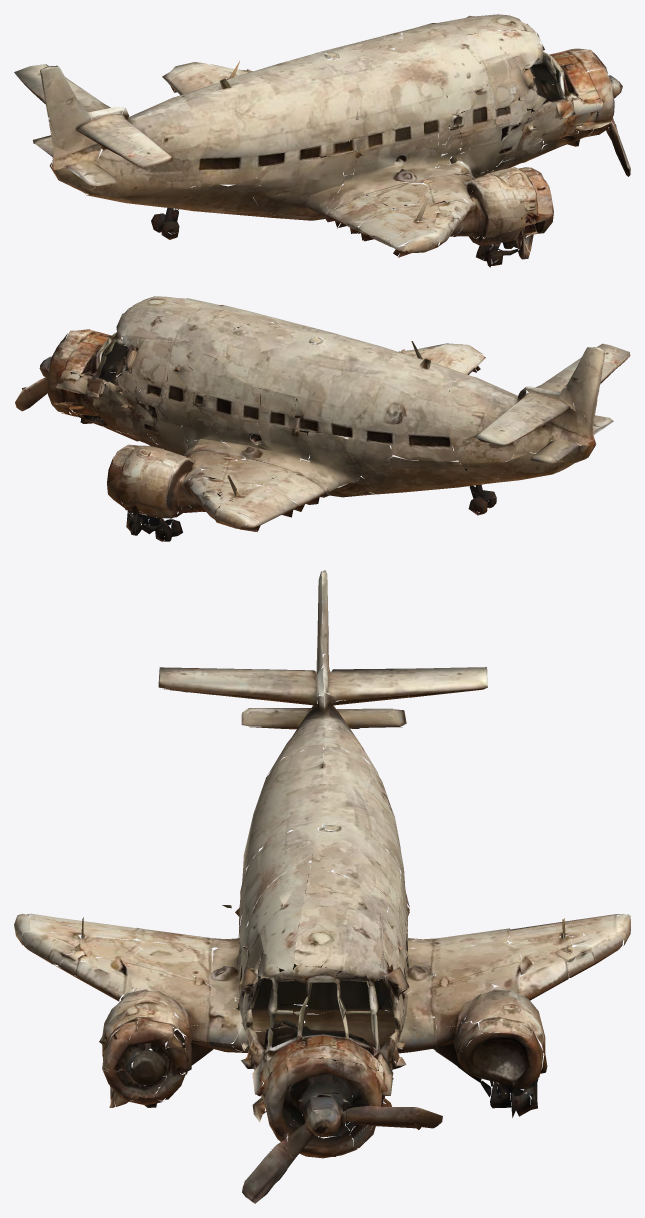
File: plane_wreck.glb
The picture shows the model from 3 angles, top to bottom: view 1: azimuth 30°, elevation 25°; view 2: azimuth 150°, elevation 25°; view 3: azimuth 270°, elevation 25°; orthographic projection. The views are drawn at different scales.
Visible parts, largest first — view 1: tripo_node_58a48ab3-cd42-4607-bcb9-5dac54964c3b; view 2: tripo_node_58a48ab3-cd42-4607-bcb9-5dac54964c3b; view 3: tripo_node_58a48ab3-cd42-4607-bcb9-5dac54964c3b.
Boxes of the visible parts, x1,y1,x2,y2 form: tripo_node_58a48ab3-cd42-4607-bcb9-5dac54964c3b: (14, 14, 630, 267); tripo_node_58a48ab3-cd42-4607-bcb9-5dac54964c3b: (15, 296, 630, 541); tripo_node_58a48ab3-cd42-4607-bcb9-5dac54964c3b: (14, 570, 630, 1203).
Bounding box in the file's own units: 1 × 0.385 × 0.7242.
Materials: 1 (1 with a texture image).
